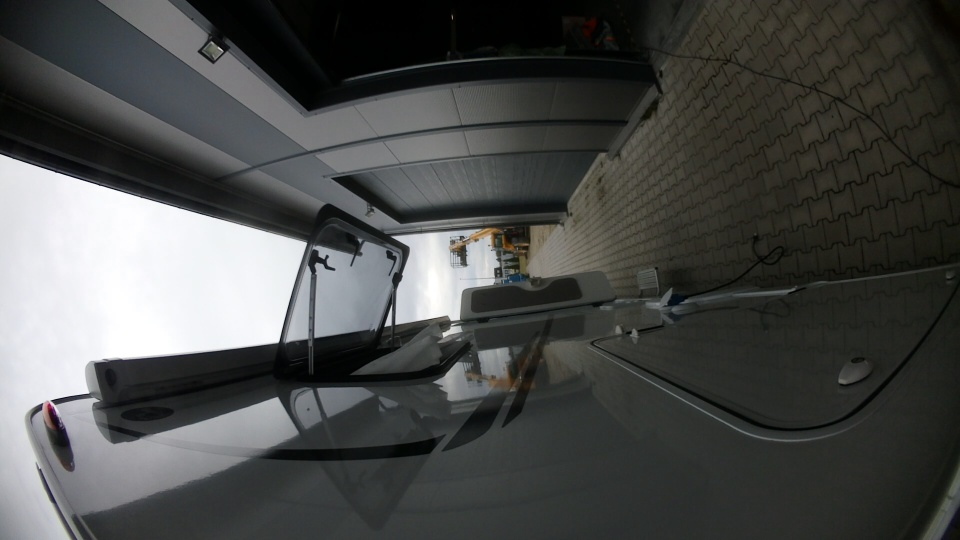door_back: (453, 268, 621, 321)
step_back: (629, 261, 661, 300)
window_back: (256, 204, 473, 382)
